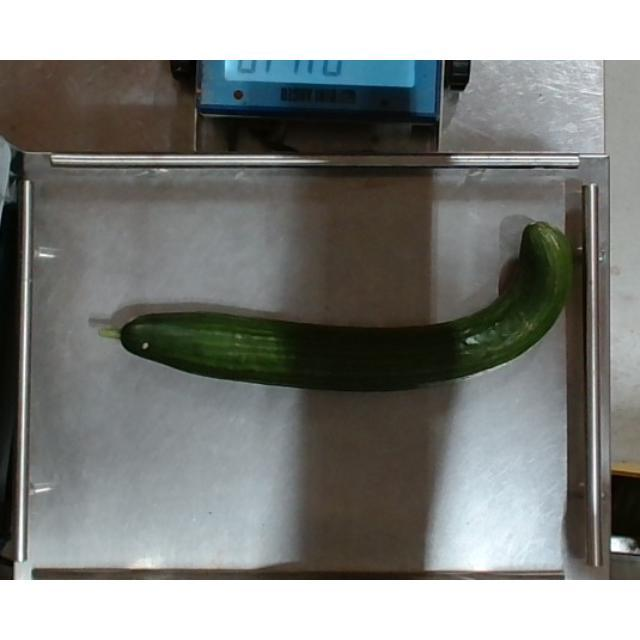cucumber: (92, 218, 576, 390)
